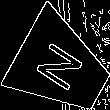N_SE: (33, 38, 91, 97)
